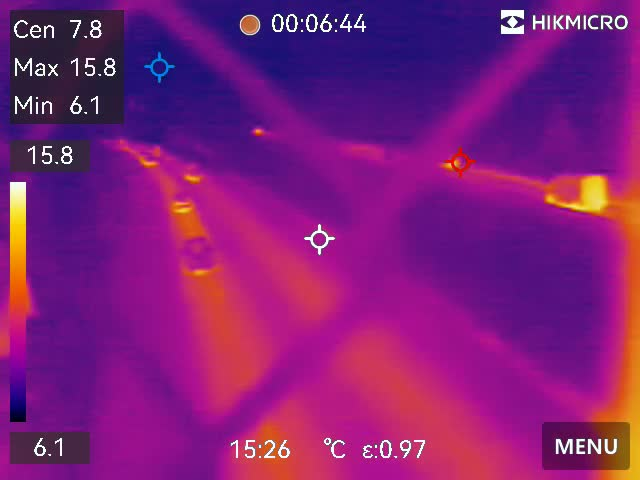heavyTruck: (538, 163, 605, 221)
vehicle: (181, 231, 220, 275), (167, 188, 201, 220)
